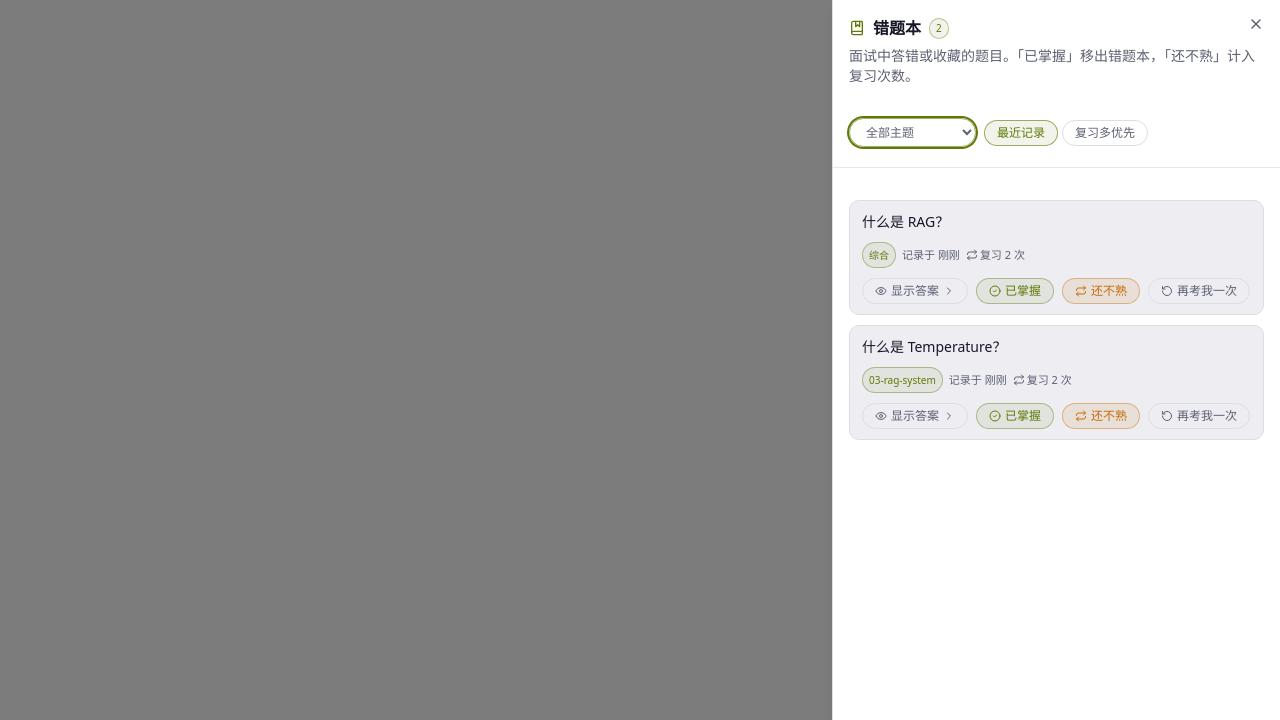
Test: MistakesPanel › 主题筛选下拉只列出实际出现过的主题，筛选「综合」只显示无主题错题
Select "综合" in the dropdown named "按主题筛选": (912, 132) [849, 118, 976, 147]
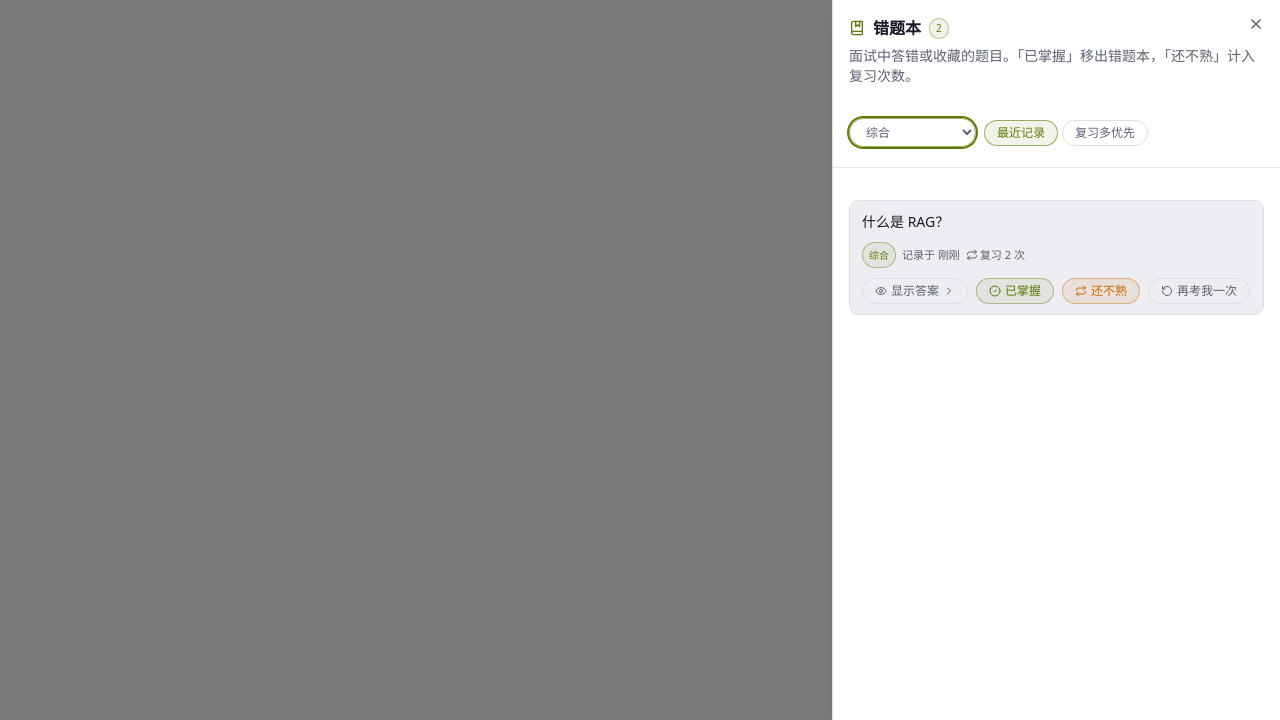
Check: the text "什么是 RAG？" is shown, box [862, 212, 949, 231]
Check: the text "什么是 Temperature？" is gone
Select "03-rag-system" in the dropdown named "按主题筛选": (912, 132) [849, 118, 976, 147]
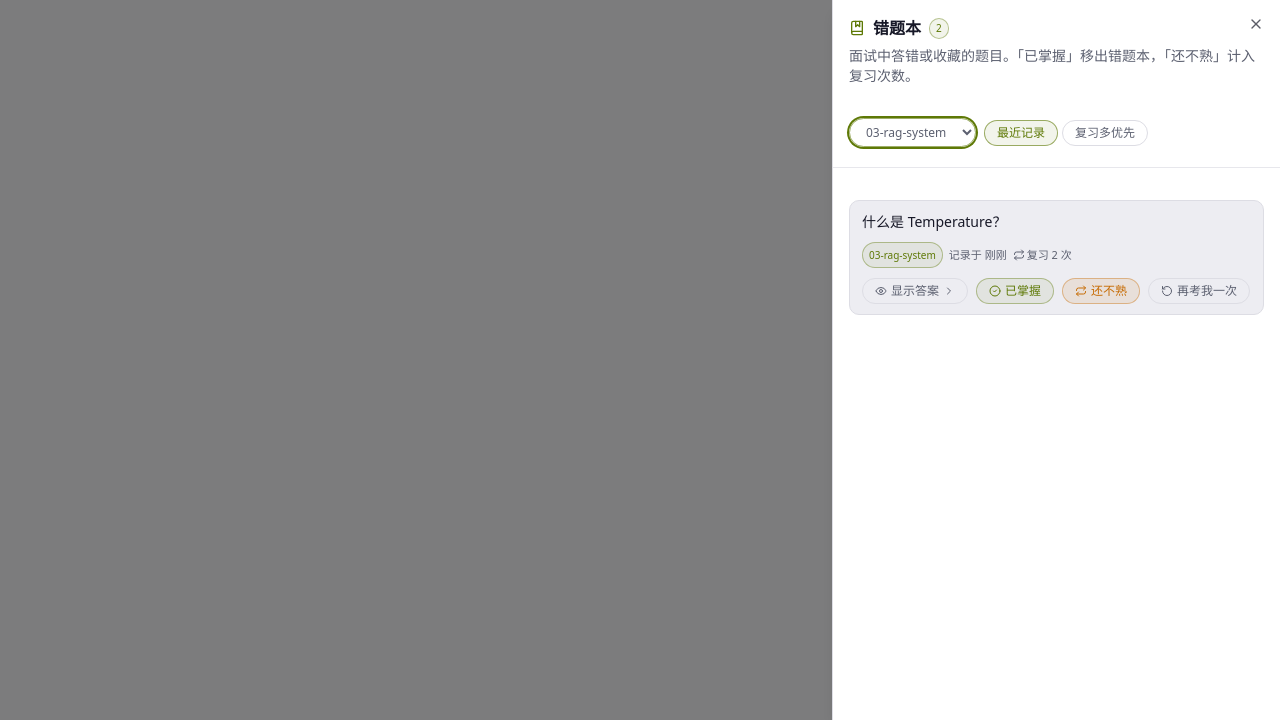
Check: the text "什么是 RAG？" is gone
Check: the text "什么是 Temperature？" is shown, box [862, 212, 1006, 231]
